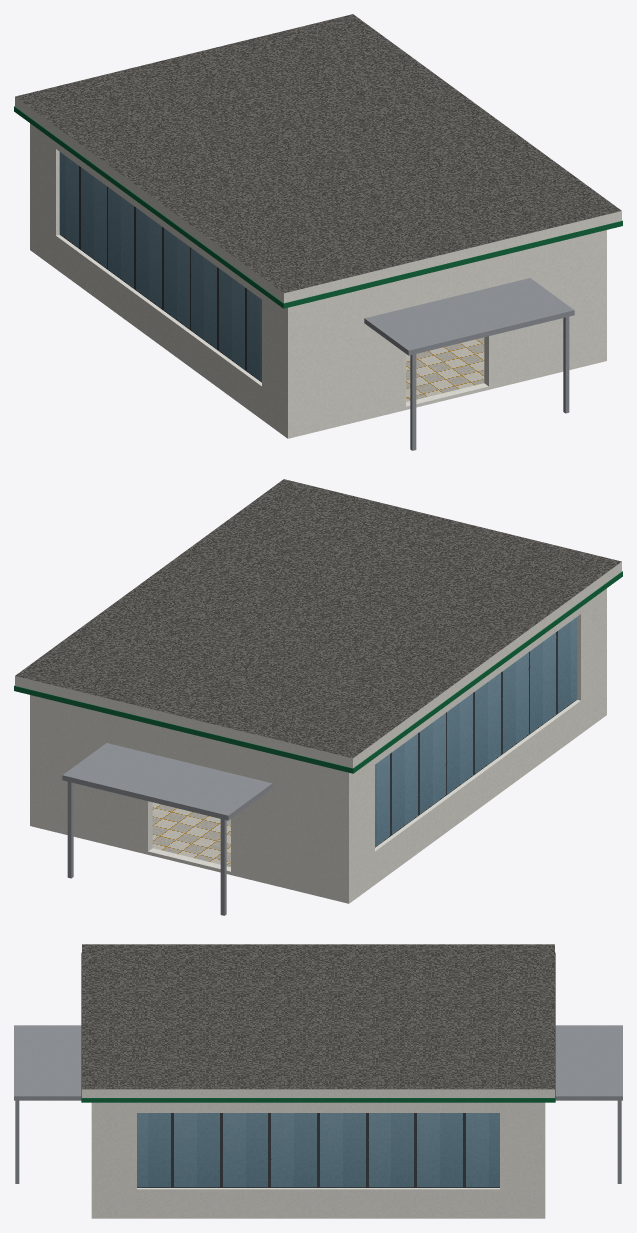
Rendered from arrival_hall.glb.
3 views of the same model, one above another, from view 1: azimuth 30°, elevation 25°; view 2: azimuth 150°, elevation 25°; view 3: azimuth 270°, elevation 25° (orthographic). The views are drawn at different scales.
Visible parts, largest first — view 1: arrival_hall; view 2: arrival_hall; view 3: arrival_hall.
Part boxes in pixels (x1,y1,x2,y2): arrival_hall: (14, 14, 622, 450); arrival_hall: (14, 479, 622, 915); arrival_hall: (14, 944, 622, 1218).
Bounding box in the file's own units: 10.64 × 4.55 × 18.8.
Materials: 9 (9 with a texture image).
